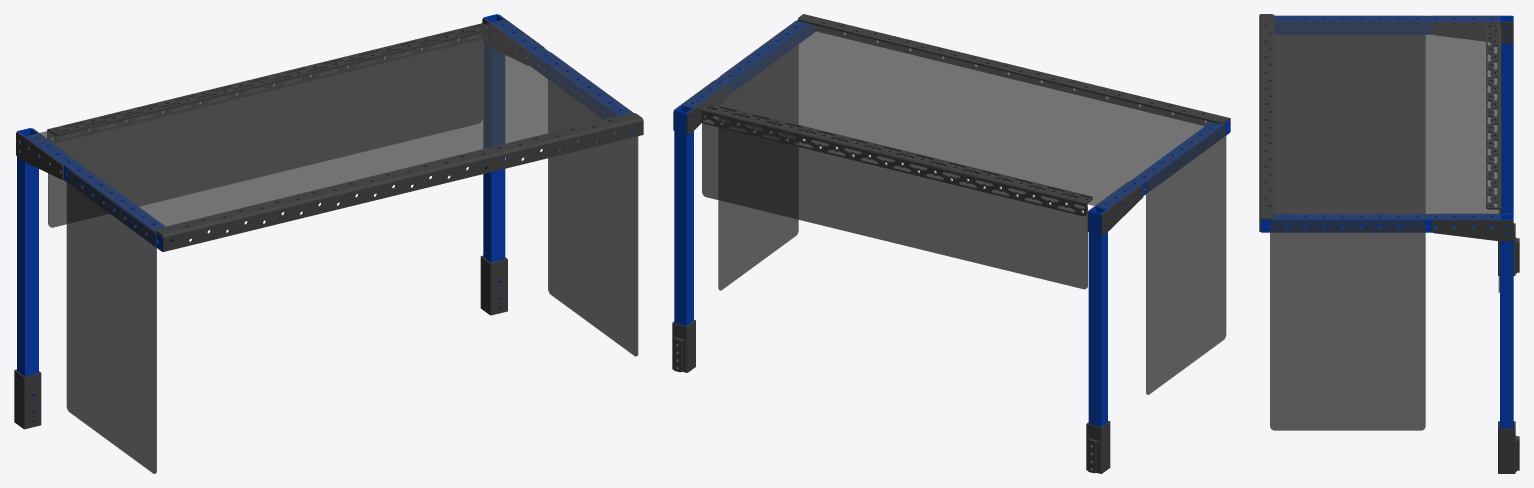
The picture shows the model from 3 angles, left to right: view 1: azimuth 30°, elevation 25°; view 2: azimuth 150°, elevation 25°; view 3: azimuth 270°, elevation 25°; orthographic projection. The views are drawn at different scales.
Visible parts, largest first — view 1: 6328-26C-0112 Roof, 6328-26C-0116 Vertical Wall (×2), Back Wall, 6328-26C-0114 Roof Angle, 6328-26C-0105 Inner Stick (×2), 6328-26C-0110 Roof Tube (×2), Back Plate Bracket, 6328-26C-0115 Inner Tube Plug (×2), 6328-26C-0111 Roof Gusset (×2); view 2: 6328-26C-0112 Roof, 6328-26C-0116 Vertical Wall (×2), Back Wall, 6328-26C-0105 Inner Stick (×2), Back Plate Bracket, 6328-26C-0114 Roof Angle, 6328-26C-0110 Roof Tube (×2), 6328-26C-0115 Inner Tube Plug (×2), 6328-26C-0111 Roof Gusset (×2); view 3: 6328-26C-0116 Vertical Wall (×2), 6328-26C-0112 Roof, 6328-26C-0110 Roof Tube (×2), 6328-26C-0105 Inner Stick (×2), 6328-26C-0114 Roof Angle, 6328-26C-0111 Roof Gusset (×2), Back Plate Bracket, 6328-26C-0115 Inner Tube Plug (×2).
Boxes of the visible parts, box(x1,y1,x2,y2) form: 6328-26C-0112 Roof: box(25, 19, 632, 235); 6328-26C-0116 Vertical Wall (×2): box(66, 52, 638, 473); Back Wall: box(48, 33, 482, 227); 6328-26C-0114 Roof Angle: box(156, 113, 643, 251); 6328-26C-0105 Inner Stick (×2): box(17, 14, 505, 423); 6328-26C-0110 Roof Tube (×2): box(26, 20, 634, 251); Back Plate Bracket: box(47, 23, 488, 141); 6328-26C-0115 Inner Tube Plug (×2): box(14, 255, 507, 429); 6328-26C-0111 Roof Gusset (×2): box(16, 18, 529, 179); 6328-26C-0112 Roof: box(682, 20, 1227, 208); 6328-26C-0116 Vertical Wall (×2): box(718, 21, 1226, 394); Back Wall: box(702, 115, 1087, 289); 6328-26C-0105 Inner Stick (×2): box(674, 105, 1107, 426); Back Plate Bracket: box(701, 103, 1092, 216); 6328-26C-0114 Roof Angle: box(798, 14, 1230, 131); 6328-26C-0110 Roof Tube (×2): box(682, 20, 1229, 213); 6328-26C-0115 Inner Tube Plug (×2): box(672, 320, 1110, 473); 6328-26C-0111 Roof Gusset (×2): box(686, 84, 1143, 235); 6328-26C-0116 Vertical Wall (×2): box(1270, 35, 1425, 430); 6328-26C-0112 Roof: box(1263, 15, 1499, 219); 6328-26C-0110 Roof Tube (×2): box(1261, 16, 1499, 232); 6328-26C-0105 Inner Stick (×2): box(1500, 16, 1513, 428); 6328-26C-0114 Roof Angle: box(1259, 14, 1274, 231); 6328-26C-0111 Roof Gusset (×2): box(1432, 22, 1513, 241); Back Plate Bracket: box(1486, 23, 1501, 213); 6328-26C-0115 Inner Tube Plug (×2): box(1498, 223, 1519, 473).
Size of the model in its own units: 0.6658 by 0.3857 by 0.3567.
